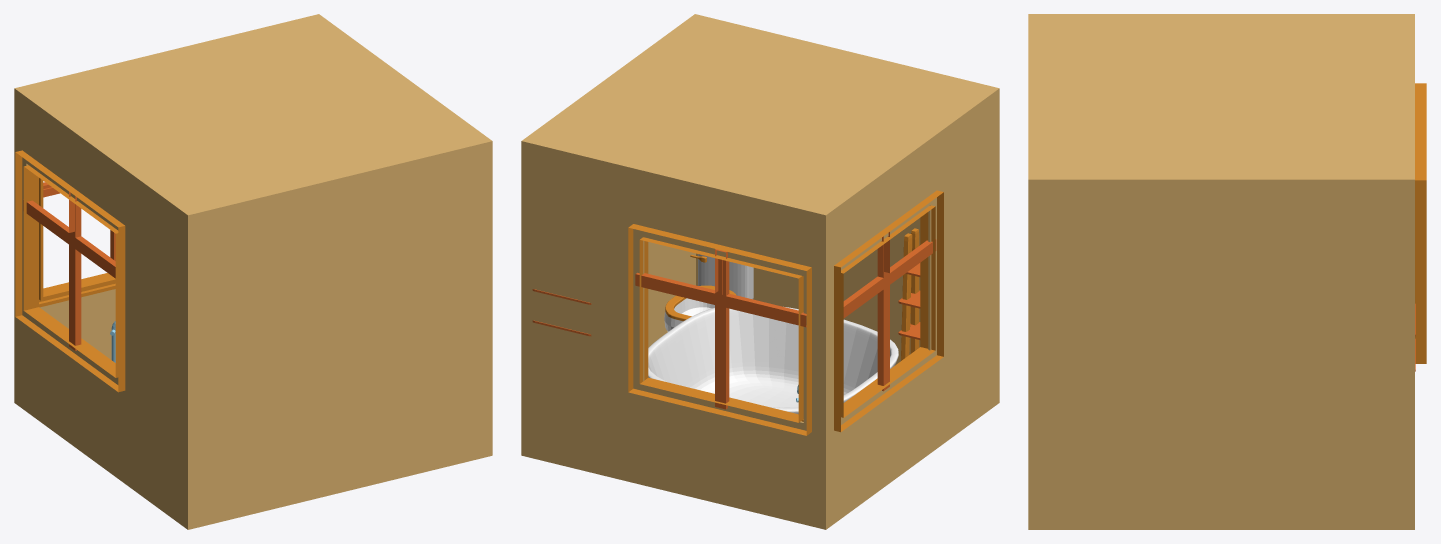
Rendered from 1004_bathroom_withT.fbx.
The picture shows the model from 3 angles, left to right: view 1: azimuth 30°, elevation 25°; view 2: azimuth 150°, elevation 25°; view 3: azimuth 270°, elevation 25°; orthographic projection. The views are drawn at different scales.
Parts seen in each view (by area): view 1: Wall1, Ceiling, Wall2.001, FRAME.001, MiDDLE.001, Wall2, FRAME, Wall3; view 2: Wall2, Ceiling, Wall2.001, bathtub, FRAME, FRAME.001, Wall1, MiDDLE, Wall3, MiDDLE.001, TANK, Cube.005 (+2 smaller); view 3: Wall3, Ceiling, FRAME, Wall1, Wall2.
Part boxes in pixels (box(x1,y1,x2,y2)): Wall1: box(189, 140, 490, 529); Ceiling: box(18, 15, 488, 213); Wall2.001: box(14, 88, 189, 529); FRAME.001: box(15, 150, 125, 392); MiDDLE.001: box(23, 191, 115, 350); Wall2: box(16, 14, 317, 359); FRAME: box(39, 178, 115, 307); Wall3: box(317, 14, 492, 455); Wall2: box(523, 140, 824, 529); Ceiling: box(525, 15, 995, 213); Wall2.001: box(824, 88, 999, 529); bathtub: box(648, 306, 898, 414); FRAME: box(628, 224, 811, 435); FRAME.001: box(834, 190, 943, 432); Wall1: box(696, 14, 997, 365); MiDDLE: box(635, 249, 806, 409); Wall3: box(521, 14, 696, 455); MiDDLE.001: box(843, 232, 936, 391); TANK: box(698, 254, 753, 299); Cube.005: box(901, 233, 912, 360); Wall3: box(1028, 178, 1414, 529); Ceiling: box(1031, 15, 1412, 178); FRAME: box(1415, 83, 1426, 363); Wall1: box(1028, 15, 1030, 178); Wall2: box(1412, 15, 1414, 178).
Bounding box in the file's own units: 311 × 300 × 309.
